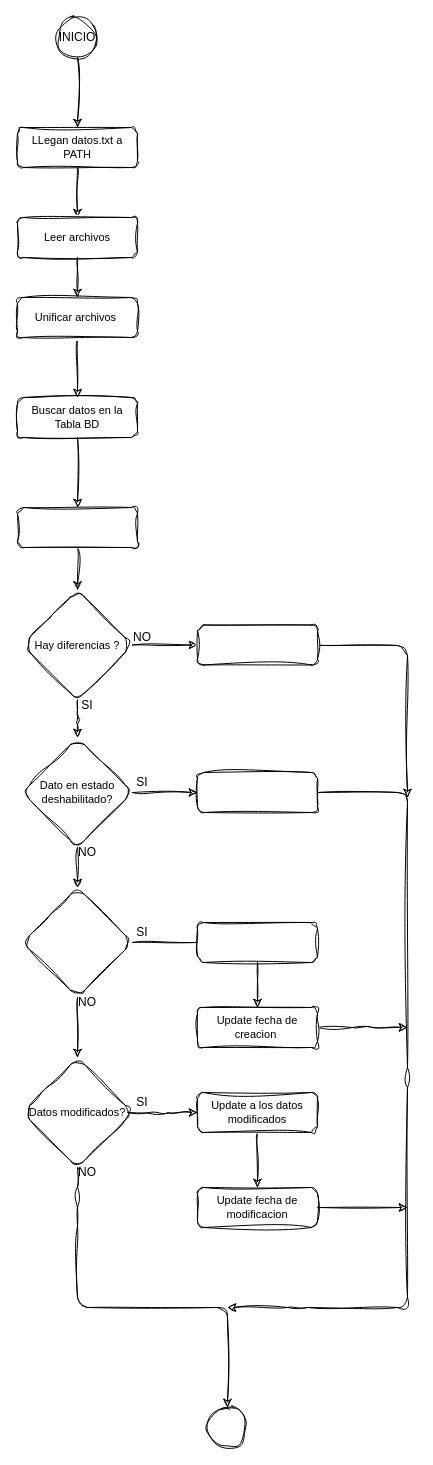
This 433x1465 diagram has some shape labels left out. Each missing label, with the centre of its shape:
"Comparar datos" belongs at pixel 77 527.
"Datos nuevos?" belongs at pixel 77 942.
"Delete al dato en tabla" belongs at pixel 257 792.
"FIN" belongs at pixel 227 1427.
"Insert de datos en Tabla" belongs at pixel 257 942.
"Update fecha actualizacion" belongs at pixel 257 644.
